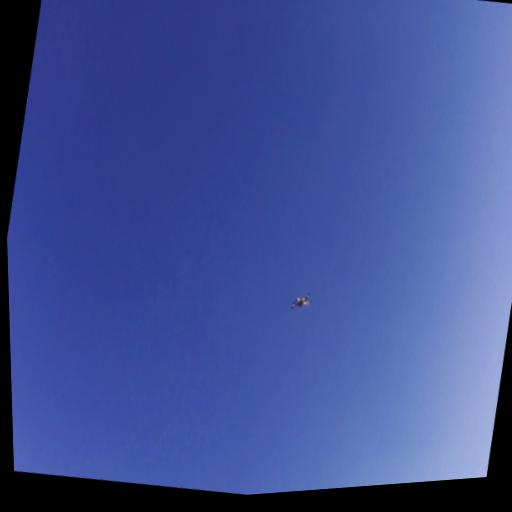drones: (284, 283, 317, 321)
